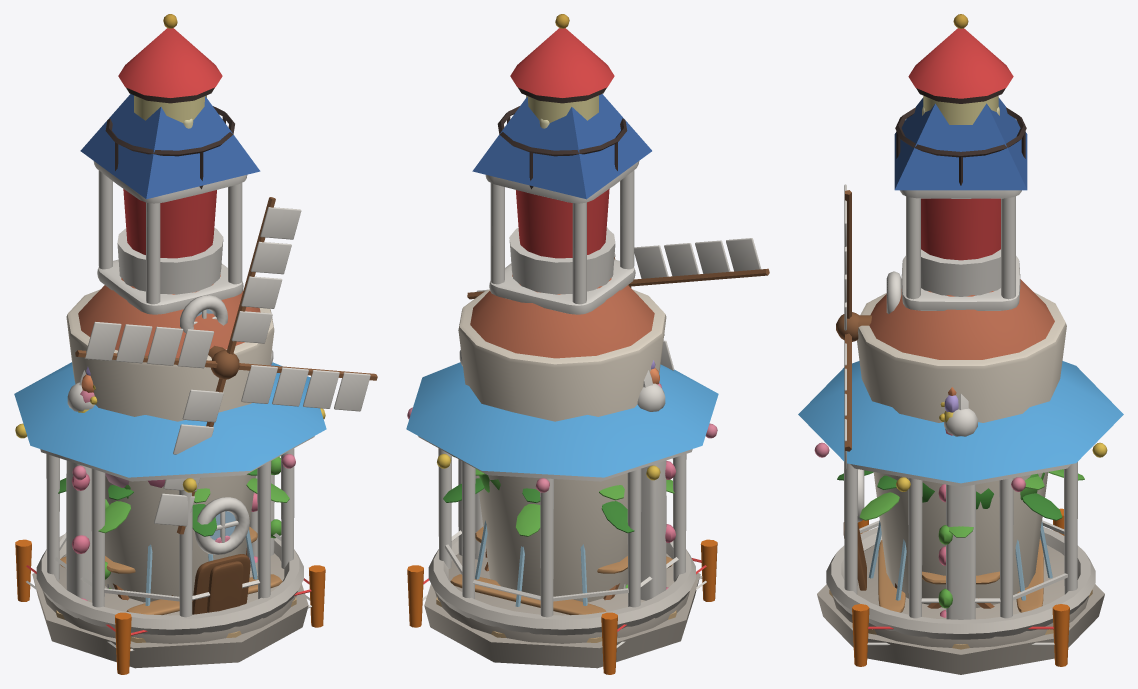
File: place.glb
3 views of the same model, side by side, from view 1: azimuth 30°, elevation 25°; view 2: azimuth 150°, elevation 25°; view 3: azimuth 270°, elevation 25° (orthographic).
Visible parts, largest first — view 1: pavillon, windmuehle, windmuehle_blades, glockenturm, leuchtturm, springbrunnen, blumentor, baustelle, banana_leaves, picknick, leuchtturm__glow; view 2: pavillon, windmuehle, glockenturm, leuchtturm, springbrunnen, blumentor, windmuehle_blades, baustelle, banana_leaves, picknick, leuchtturm__glow; view 3: pavillon, windmuehle, glockenturm, leuchtturm, springbrunnen, blumentor, baustelle, windmuehle_blades, picknick, banana_leaves, leuchtturm__glow.
Part boxes in pixels (box(x1,y1,x2,y2)): pavillon: box(14, 362, 326, 668); windmuehle: box(66, 274, 274, 614); windmuehle_blades: box(75, 197, 377, 534); glockenturm: box(80, 94, 260, 595); leuchtturm: box(105, 14, 243, 612); springbrunnen: box(36, 529, 303, 643); blumentor: box(66, 350, 281, 600); baustelle: box(15, 539, 325, 674); banana_leaves: box(58, 455, 289, 536); picknick: box(60, 527, 282, 614); leuchtturm__glow: box(134, 95, 212, 316); pavillon: box(406, 362, 718, 668); windmuehle: box(458, 275, 666, 602); glockenturm: box(472, 94, 651, 314); leuchtturm: box(497, 14, 627, 294); springbrunnen: box(428, 520, 695, 643); blumentor: box(458, 350, 675, 600); windmuehle_blades: box(467, 227, 769, 370); baustelle: box(407, 539, 717, 674); banana_leaves: box(443, 456, 674, 536); picknick: box(450, 526, 672, 615); leuchtturm__glow: box(526, 95, 598, 122); pavillon: box(798, 361, 1123, 674); windmuehle: box(857, 279, 1066, 607); glockenturm: box(894, 97, 1027, 588); leuchtturm: box(843, 14, 1026, 538); springbrunnen: box(826, 520, 1095, 647); blumentor: box(938, 387, 977, 619); baustelle: box(852, 508, 1069, 666); windmuehle_blades: box(836, 184, 859, 469); picknick: box(878, 540, 1043, 612); banana_leaves: box(837, 469, 1084, 537); leuchtturm__glow: box(923, 95, 998, 124).
Bounding box in the file's own units: 2.79 × 5.33 × 2.6.
